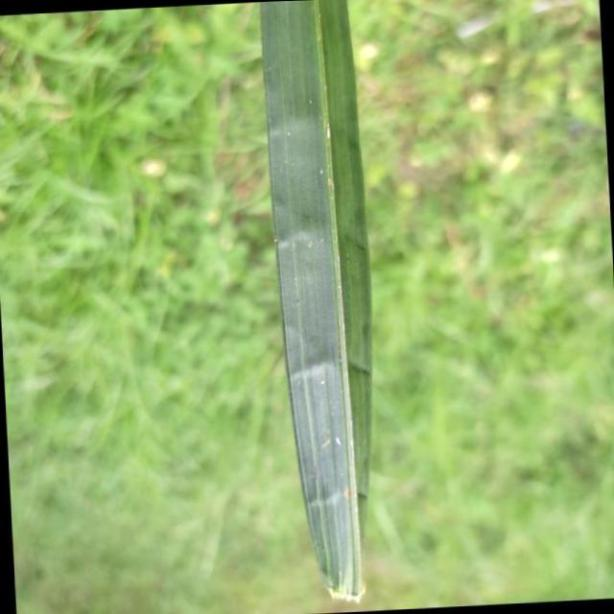Boron: (259, 0, 367, 601)
